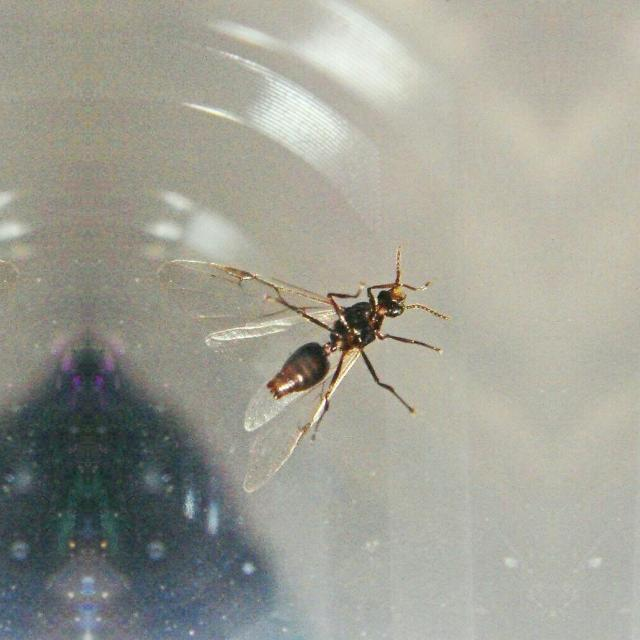Crematogaster: (255, 269, 423, 421)
